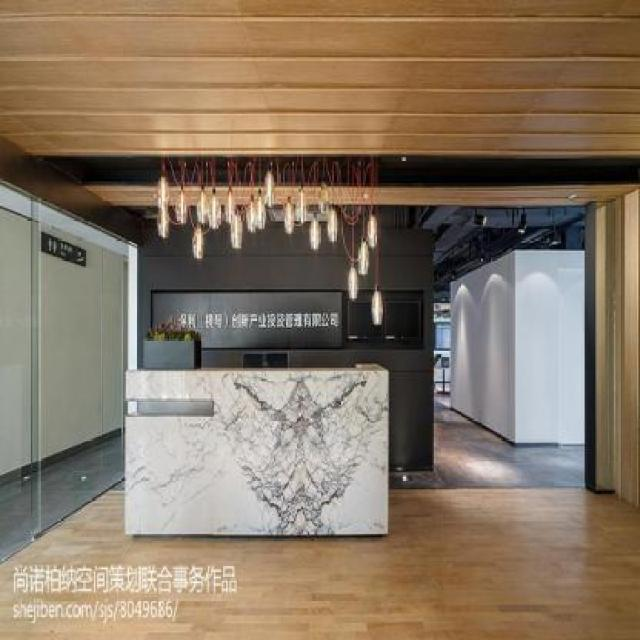frontdesk: (115, 354, 398, 548)
